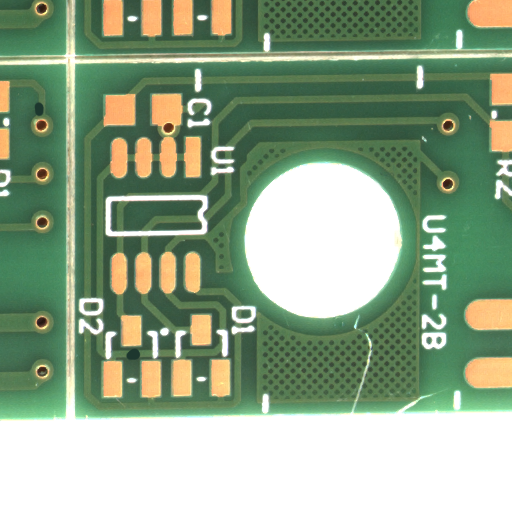Mouse_bite: (132, 353, 145, 366), (38, 109, 46, 124)
